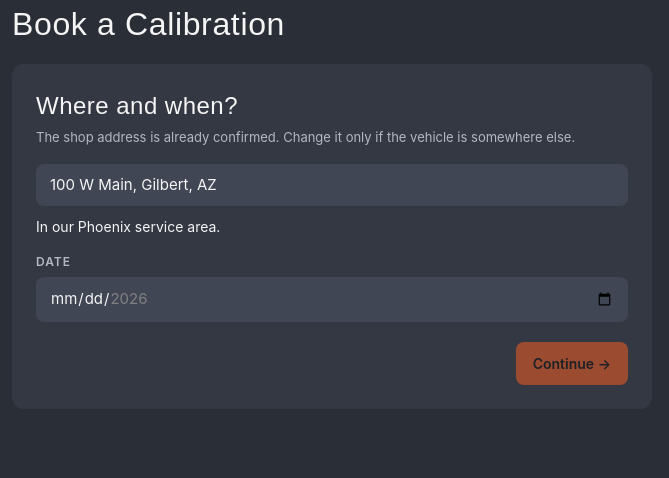
Test: editing the prefilled shop address shows suggestions and keeps the service-area check
This screenshot has width=669, height=478.
Later steps or results of the test are not shown.
Check: the text "In our Phoenix service area." is shown, box left=36, top=218, right=220, bottom=235
Replace the text in the field with test id "b-addr" with "200 Other St, Mesa, AZ" at [332, 185], box left=36, top=164, right=628, bottom=206
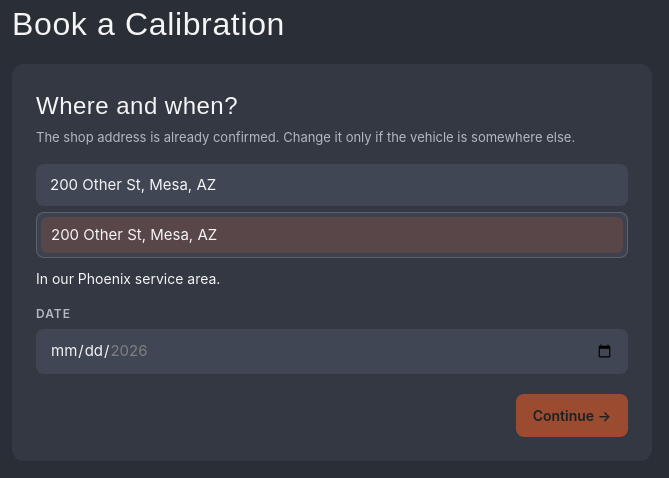
Check: the text "In our Phoenix service area." is shown, box left=36, top=270, right=220, bottom=287
Check: the option reads "200 Other St, Mesa, AZ", box left=41, top=217, right=623, bottom=253
